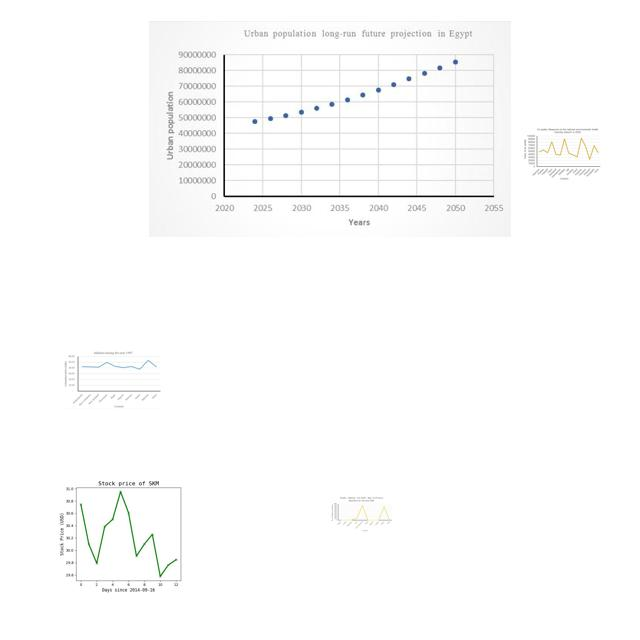Graph: (149, 21, 511, 237), (46, 473, 207, 594), (64, 350, 162, 409), (522, 127, 602, 181), (330, 496, 393, 532)
